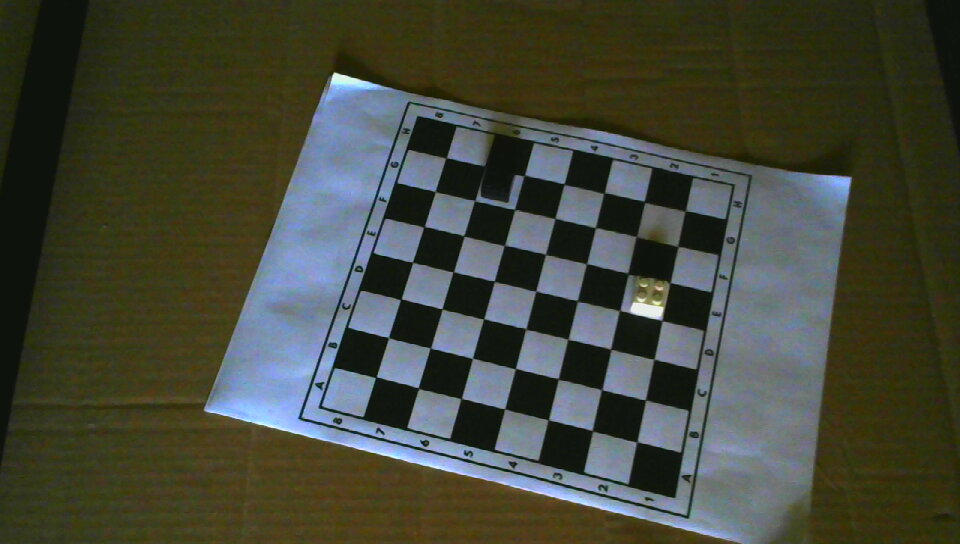bp: (479, 166, 514, 203)
wp: (630, 275, 669, 318)
